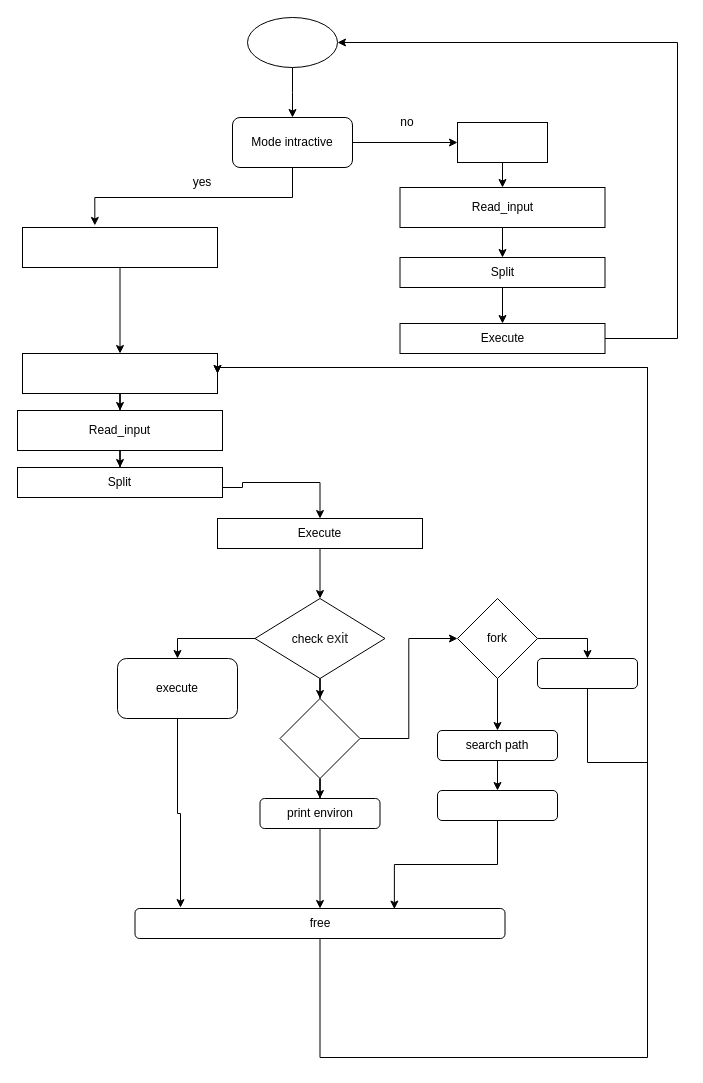
This 703x1083 diagram has some shape labels left out. The box of each missing label's shape, as (x1, y1, x2, y2) in pixels:
check env: (279, 698, 360, 778)
command not foud: (536, 658, 638, 688)
execute command: (436, 790, 558, 820)
non interractive shell: (456, 122, 548, 162)
Prompt: (22, 352, 218, 394)
Run intractive shell: (22, 226, 218, 268)
start: (246, 16, 338, 68)
